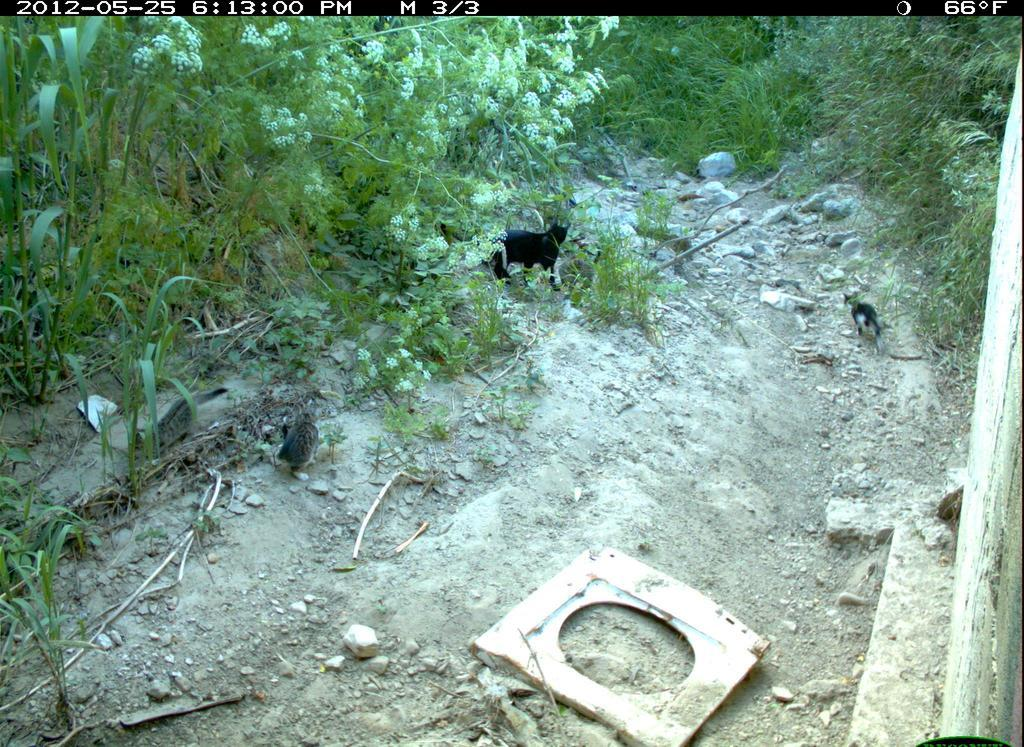cat: (126, 386, 231, 473), (476, 218, 574, 290), (831, 287, 907, 372), (272, 396, 332, 486), (554, 252, 601, 298)
